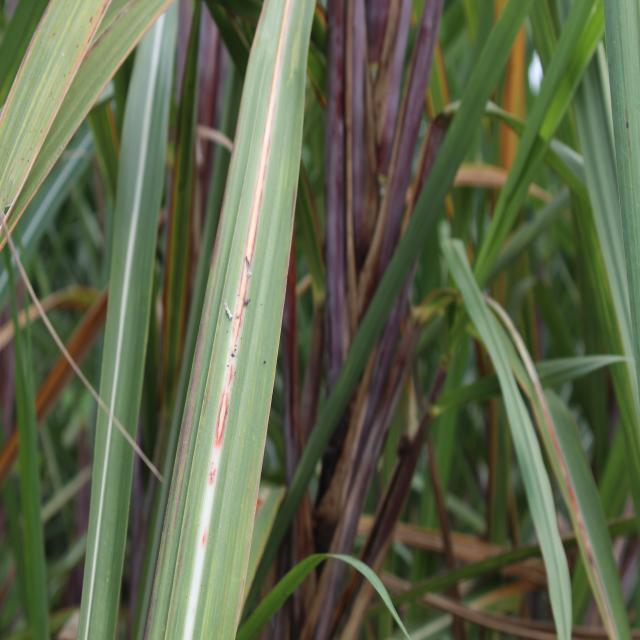Sugarcane: (153, 0, 315, 640), (76, 7, 176, 640), (601, 0, 640, 470)
